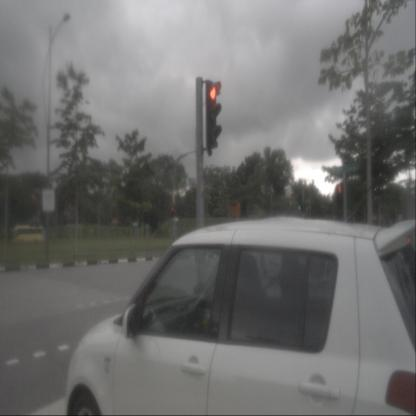vehicle-bus-rigid: (10, 225, 45, 246)
vehicle-car: (63, 214, 415, 415)
